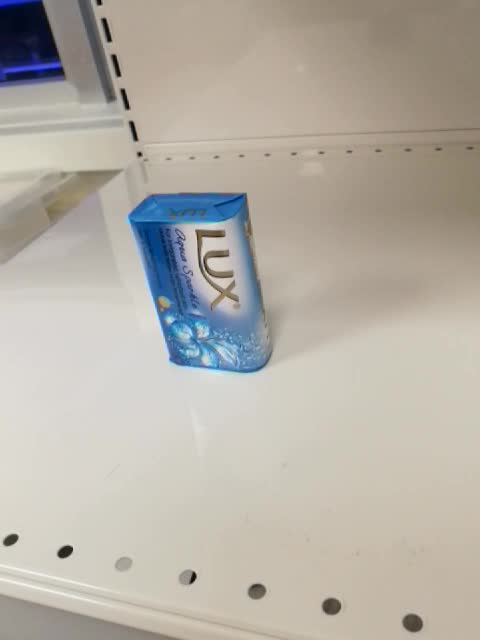soap: (126, 191, 274, 374)
